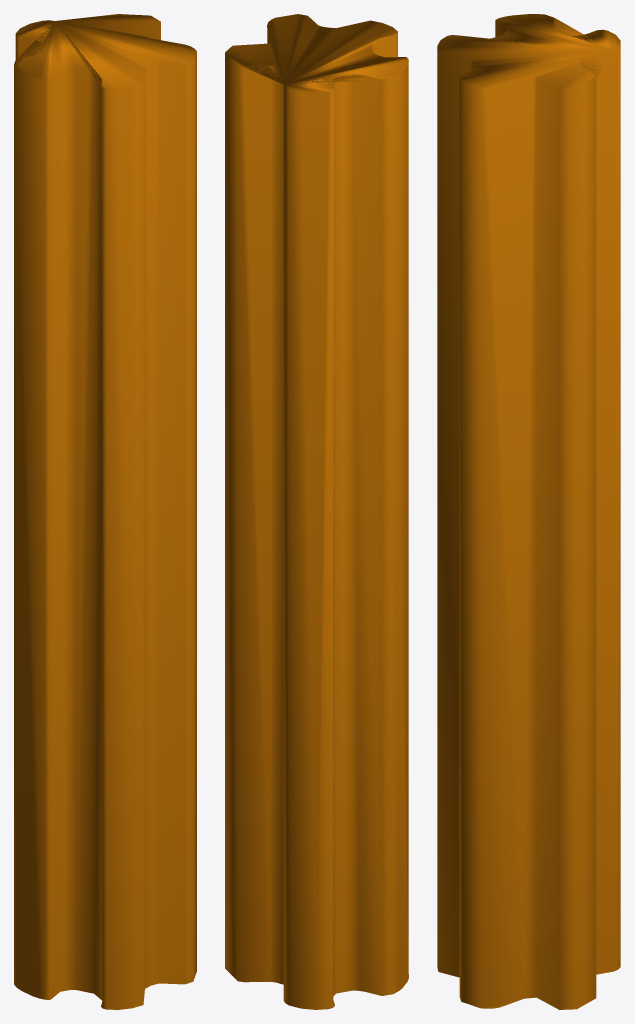
File: pillar.fbx
3 views of the same model, side by side, from view 1: azimuth 30°, elevation 25°; view 2: azimuth 150°, elevation 25°; view 3: azimuth 270°, elevation 25° (orthographic).
Visible parts, largest first — view 1: NurbsPath; view 2: NurbsPath; view 3: NurbsPath.
Part boxes in pixels (left/top/right/bottom): NurbsPath: left=14, top=14, right=196, bottom=1009; NurbsPath: left=225, top=14, right=408, bottom=1009; NurbsPath: left=437, top=14, right=620, bottom=1009.
Size of the model in its own units: 111 by 629 by 114.
